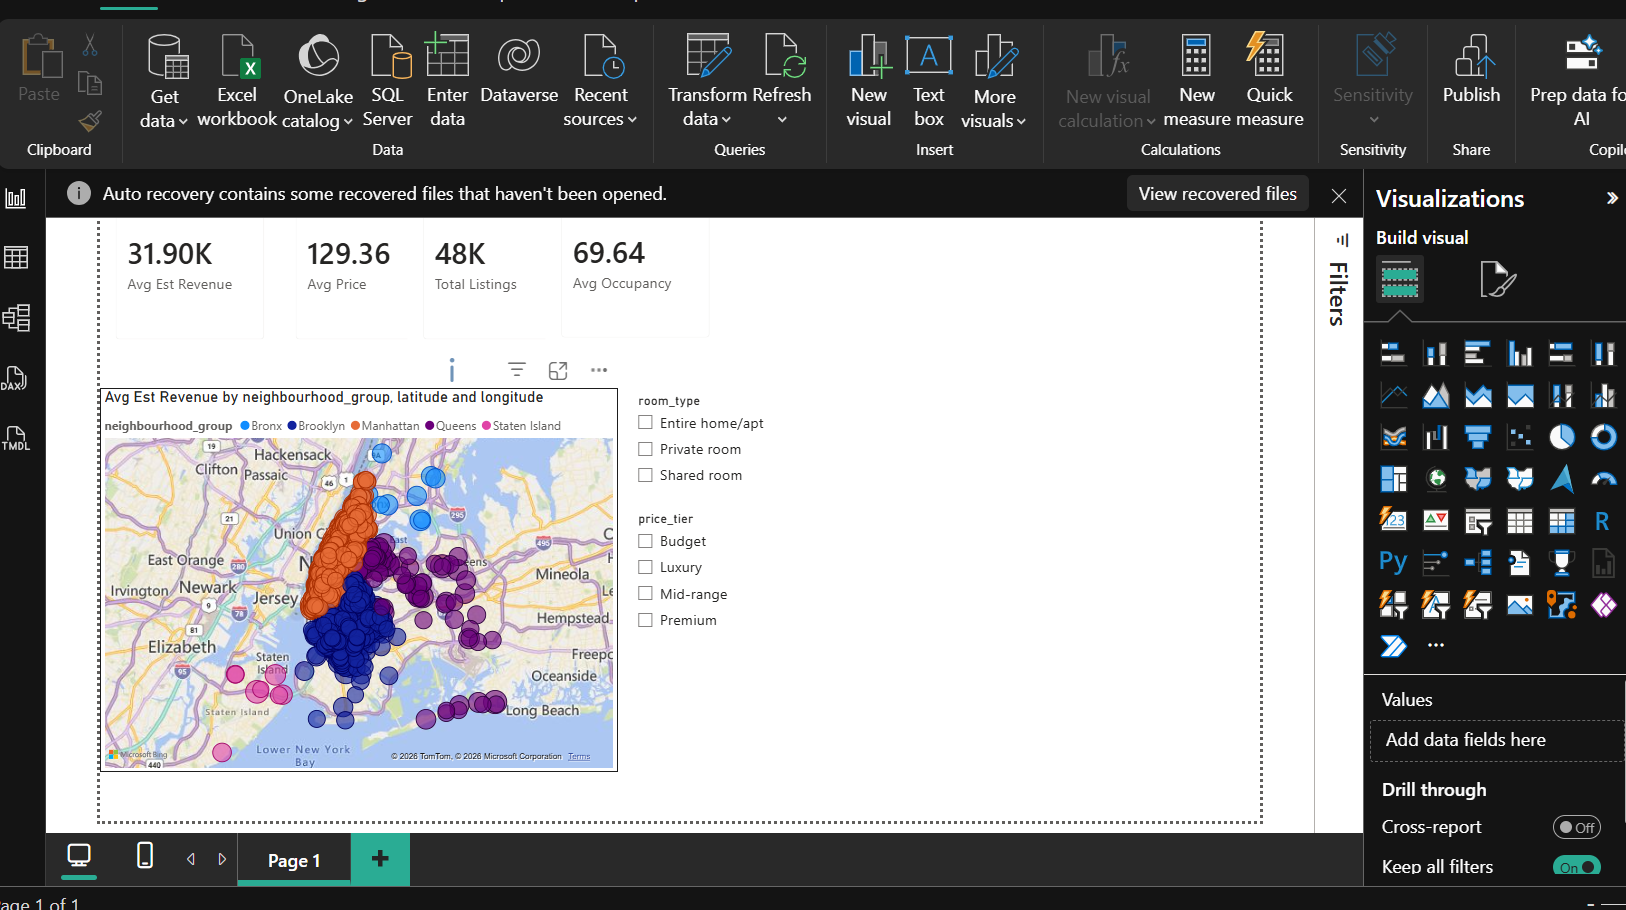

Layout of this report page (visuals, bound fields, positions):
{"tool":"powerbi","page":{"name":"Page 1","canvas":[1280,720],"ordinal":0},"visuals":[{"type":"cardVisual","fields":{"Data":["airbnb_analysis listings.Avg Est Revenue"]},"box":[0,0,198.8,205.4],"z":0},{"type":"cardVisual","fields":{"Data":["airbnb_analysis listings.Avg Price"]},"box":[198.8,0,198.8,205.4],"z":1000},{"type":"cardVisual","fields":{"Data":["airbnb_analysis listings.Total Listings"]},"box":[339.6,0,198.8,205.4],"z":2000},{"type":"cardVisual","fields":{"Data":["airbnb_analysis listings.Avg Occupancy"]},"box":[492,0,198.8,203.7],"z":3000},{"type":"map","fields":{"Y":["airbnb_analysis listings.latitude"],"X":["airbnb_analysis listings.longitude"],"Size":["airbnb_analysis listings.Avg Est Revenue"],"Series":["airbnb_analysis listings.neighbourhood_group"]},"box":[0,241.8,571.5,424.1],"z":4000},{"type":"slicer","fields":{"Values":["airbnb_analysis listings.room_type"]},"box":[581.7,241.7,275,131.7],"z":4001},{"type":"slicer","fields":{"Values":["airbnb_analysis listings.price_tier"]},"box":[581.7,373.3,211.7,155],"z":4002}]}

Visuals, with their boxes on the page's 1280x720 design canvas (x1, y1, x2, y2). These are canvas units, not pixel positions in the 1626x910 screenshot, which may show the page scaled, cropped or inside an application window:
cardVisual - airbnb_analysis listings.Avg Est Revenue: 0 0 199 205
cardVisual - airbnb_analysis listings.Avg Price: 199 0 398 205
cardVisual - airbnb_analysis listings.Total Listings: 340 0 538 205
cardVisual - airbnb_analysis listings.Avg Occupancy: 492 0 691 204
map - airbnb_analysis listings.latitude x airbnb_analysis listings.longitude: 0 242 572 666
slicer - airbnb_analysis listings.room_type: 582 242 857 373
slicer - airbnb_analysis listings.price_tier: 582 373 793 528
